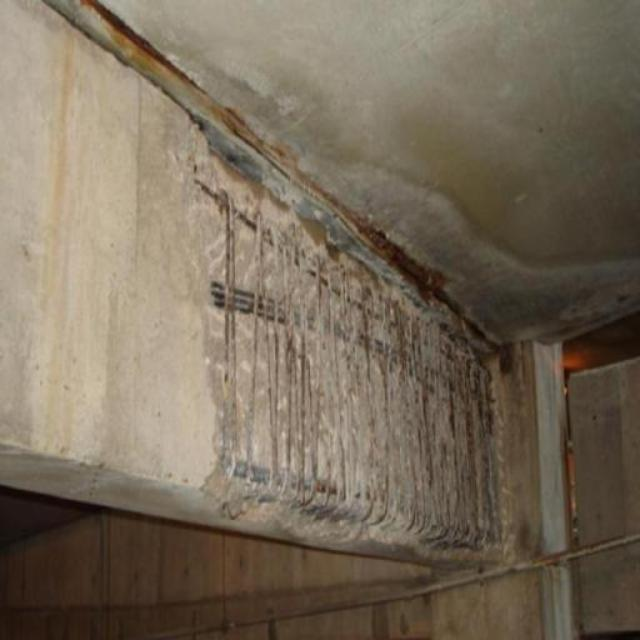D0w0: (186, 149, 513, 573)
